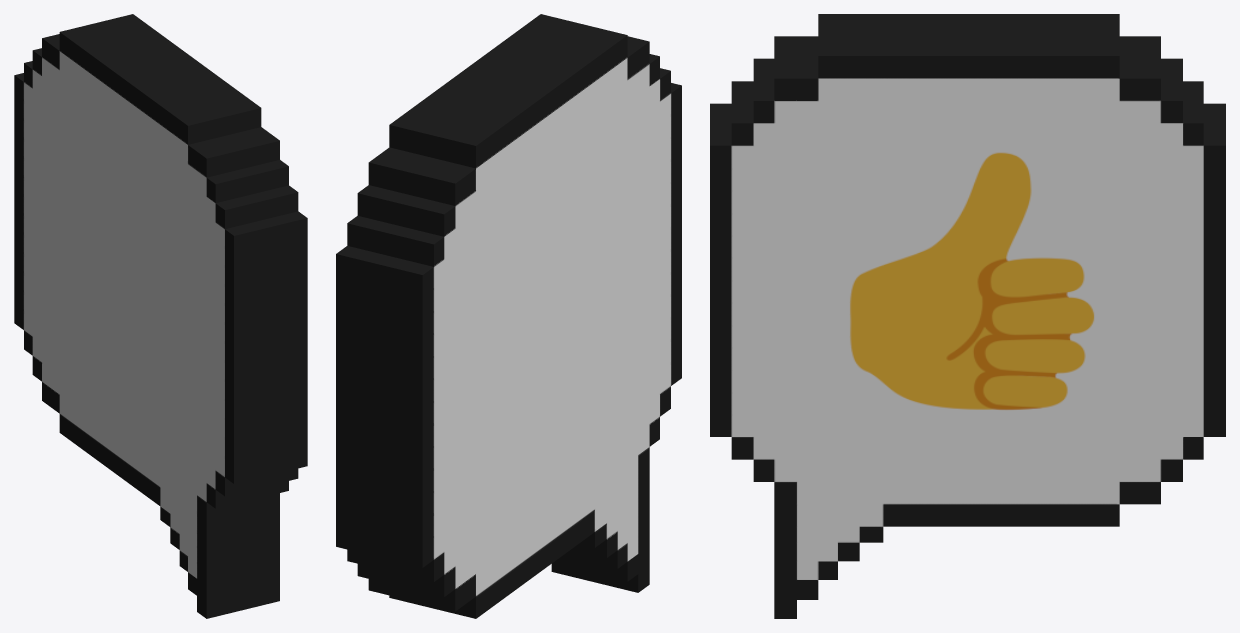
Rendered from thumbup_speech.glb.
3 views of the same model, side by side, from view 1: azimuth 30°, elevation 25°; view 2: azimuth 150°, elevation 25°; view 3: azimuth 270°, elevation 25° (orthographic). The views are drawn at different scales.
Parts seen in each view (by area): view 1: Pixel_Speech_Bubbles_v4_001; view 2: Pixel_Speech_Bubbles_v4_001; view 3: Pixel_Speech_Bubbles_v4_001.
Boxes of the visible parts, x1=… form: Pixel_Speech_Bubbles_v4_001: x1=14, y1=14, x2=307, y2=618; Pixel_Speech_Bubbles_v4_001: x1=336, y1=14, x2=681, y2=618; Pixel_Speech_Bubbles_v4_001: x1=710, y1=14, x2=1225, y2=618.
Size of the model in its own units: 0.00854 by 0.0532 by 0.0442.
Materials: 1 (1 with a texture image).
